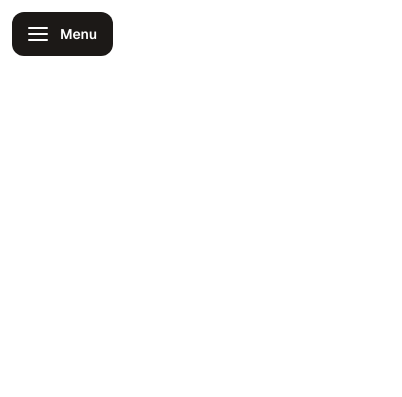
Scenario: AdminSidebar › recolhe o menu móvel e expõe os links administrativos na ordem solicitada
What coordinates should you click on to do the following:
click the button with aria-label "Abrir menu de navegação"
I would click on:
 (63, 34)
Its box is [12, 12, 113, 56].
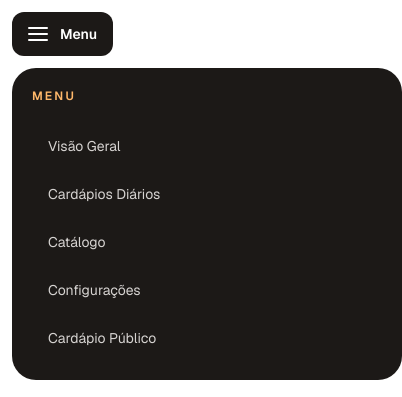
Expected: the links read "Visão Geral", "Cardápios Diários", "Catálogo", "Configurações", "Cardápio Público", in this order, [48, 137, 120, 155]; [48, 185, 160, 203]; [48, 233, 106, 251]; [48, 281, 141, 299]; [48, 329, 156, 347]
